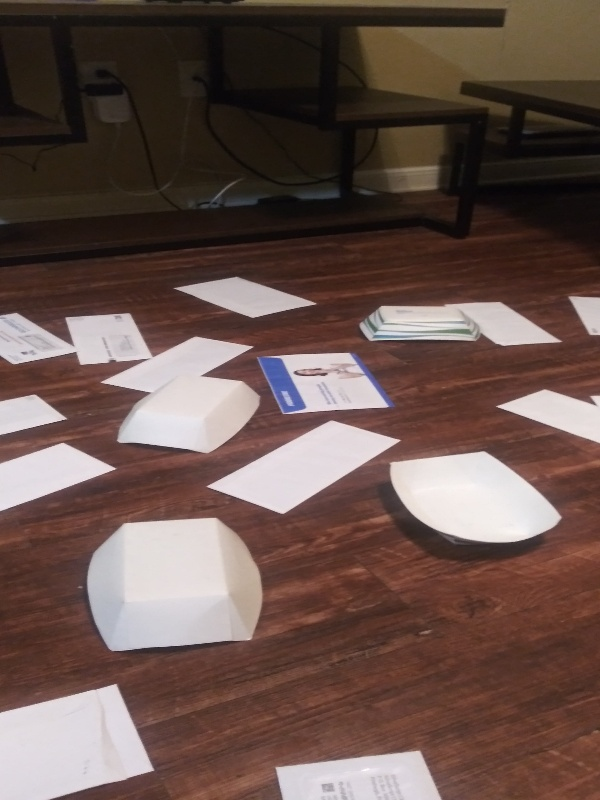plate: (80, 511, 270, 658), (383, 445, 567, 557), (112, 372, 266, 455), (356, 301, 485, 346)
